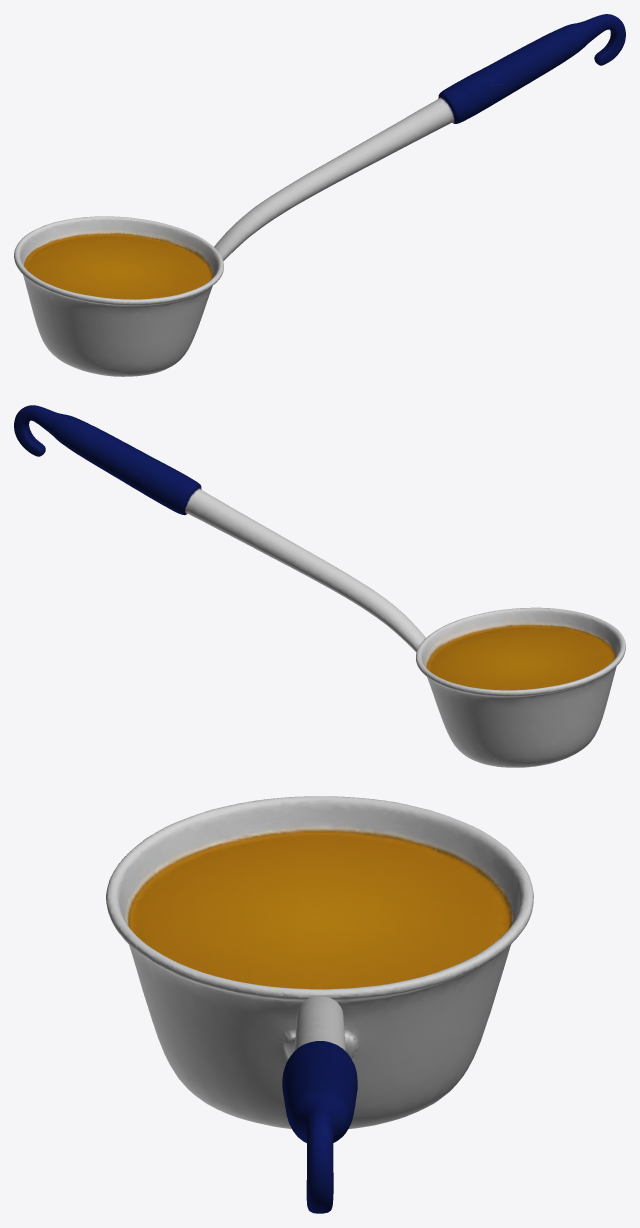
The model's file is broth.fbx.
3 views of the same model, one above another, from view 1: azimuth 30°, elevation 25°; view 2: azimuth 150°, elevation 25°; view 3: azimuth 270°, elevation 25° (orthographic). The views are drawn at different scales.
Parts seen in each view (by area): view 1: Mesh_0; view 2: Mesh_0; view 3: Mesh_0.
Part boxes in pixels (bbox=[...]): Mesh_0: bbox=[14, 14, 625, 376]; Mesh_0: bbox=[14, 405, 625, 767]; Mesh_0: bbox=[106, 796, 533, 1213].
Size of the model in its own units: 190 by 67.91 by 58.99.
1 material, 1 textured.
